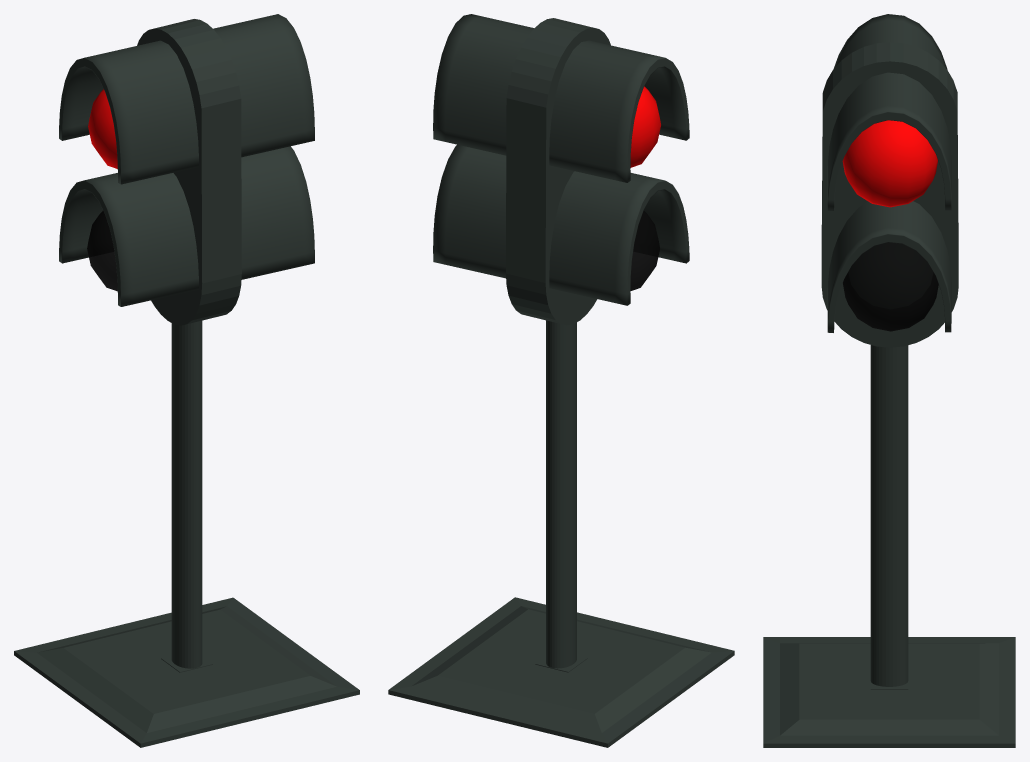
File: TrafficLight_red_normals.obj
3 views of the same model, side by side, from view 1: azimuth 30°, elevation 25°; view 2: azimuth 150°, elevation 25°; view 3: azimuth 270°, elevation 25° (orthographic).
Visible parts, largest first — view 1: Cube, Cube.001_Cube.015, Cube.002_Cube.016, Cylinder.001, Cylinder, Cube.007_Cube.013, Cube.008_Cube.014; view 2: Cube, Cube.001_Cube.015, Cube.002_Cube.016, Cylinder.001, Cylinder, Cube.008_Cube.014, Cube.007_Cube.013; view 3: Cube, Cylinder.001, Cylinder, Cube.001_Cube.015, Cube.005_Cube.011, Cube.002_Cube.016, Cube.003_Cube.004.
Boxes of the visible parts, x1,y1,x2,y2 form: Cube: (14,597,359,747); Cube.001_Cube.015: (59,14,314,184); Cube.002_Cube.016: (59,146,314,306); Cylinder.001: (137,19,241,325); Cylinder: (171,320,202,668); Cube.007_Cube.013: (87,210,117,291); Cube.008_Cube.014: (88,89,117,168); Cube: (388,597,734,747); Cube.001_Cube.015: (433,14,689,182); Cube.002_Cube.016: (433,144,689,305); Cylinder.001: (506,18,610,325); Cylinder: (546,320,576,668); Cube.008_Cube.014: (630,86,660,167); Cube.007_Cube.013: (630,210,659,290); Cube: (763,637,1015,747); Cylinder.001: (821,42,958,347); Cylinder: (870,345,908,686); Cube.001_Cube.015: (827,14,951,210); Cube.005_Cube.011: (843,242,938,331); Cube.002_Cube.016: (827,201,951,332); Cube.003_Cube.004: (842,120,937,207).
Size of the model in its own units: 0.25 by 0.7039 by 0.25.
